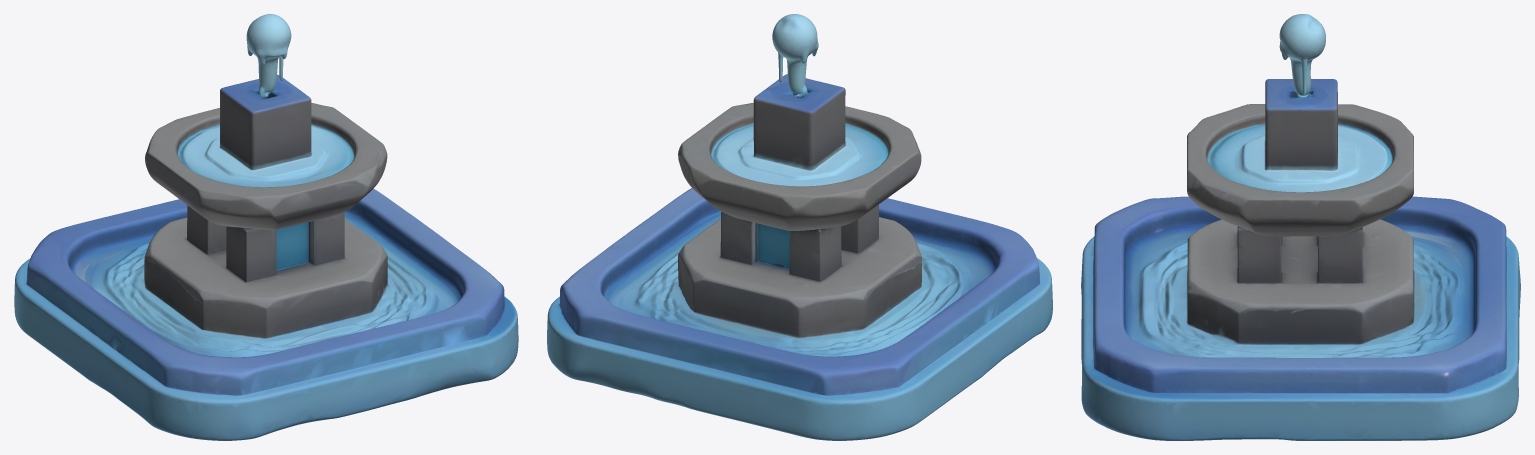
Rendered from plaza-fountain-geometric.glb.
3 renders of one model, left to right at view 1: azimuth 30°, elevation 25°; view 2: azimuth 150°, elevation 25°; view 3: azimuth 270°, elevation 25°, orthographic. The views are drawn at different scales.
Visible parts, largest first — view 1: tripo_node_80c7c9d1-a9fd-41e0-be65-419cab7c70a1; view 2: tripo_node_80c7c9d1-a9fd-41e0-be65-419cab7c70a1; view 3: tripo_node_80c7c9d1-a9fd-41e0-be65-419cab7c70a1.
Part boxes in pixels (x1=…): tripo_node_80c7c9d1-a9fd-41e0-be65-419cab7c70a1: x1=14, y1=14, x2=518, y2=440; tripo_node_80c7c9d1-a9fd-41e0-be65-419cab7c70a1: x1=547, y1=14, x2=1052, y2=440; tripo_node_80c7c9d1-a9fd-41e0-be65-419cab7c70a1: x1=1081, y1=14, x2=1520, y2=440.
Bounding box in the file's own units: 4.73 × 4 × 4.74.
Materials: 1 (1 with a texture image).
